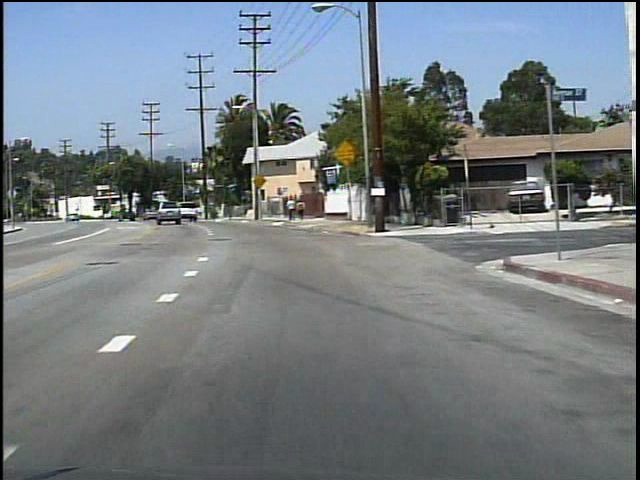person: (286, 196, 297, 223), (296, 198, 306, 222)
